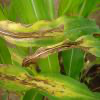Corn leaf blight: (0, 61, 97, 99), (0, 13, 98, 47), (18, 35, 100, 70)
